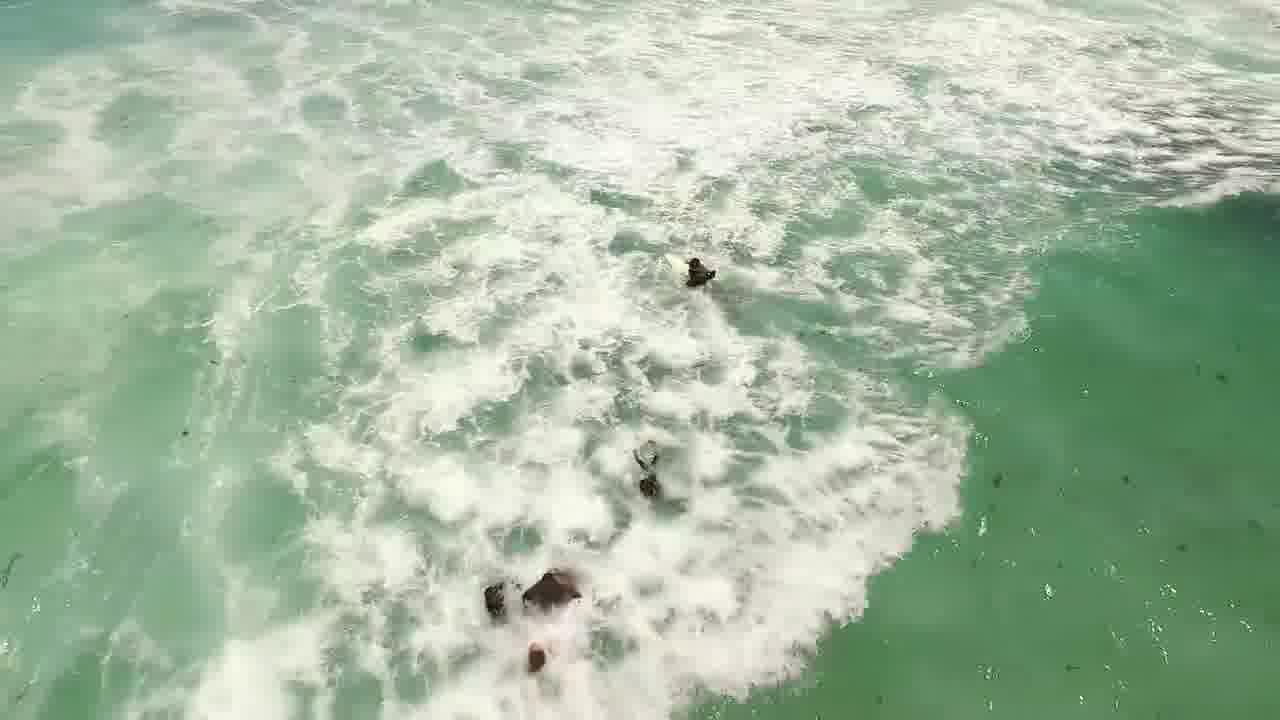swimmer: (527, 559, 601, 605), (619, 438, 673, 497), (670, 246, 728, 291), (509, 638, 572, 674), (474, 577, 505, 602)
